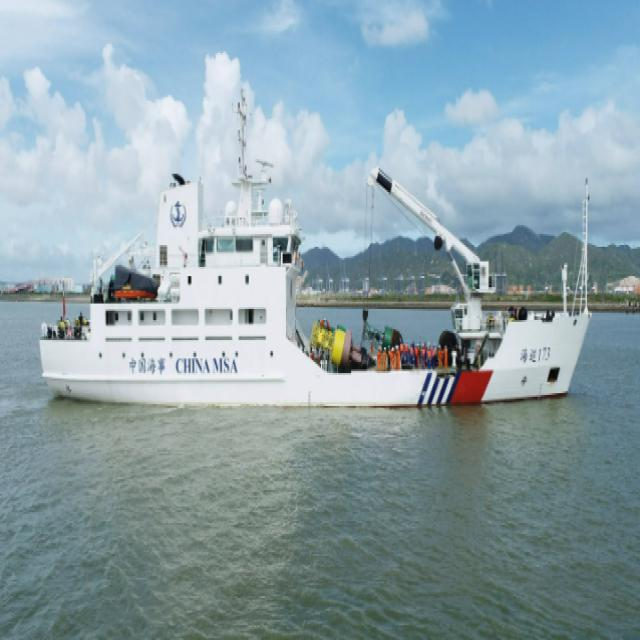houseboat: (31, 132, 592, 420)
